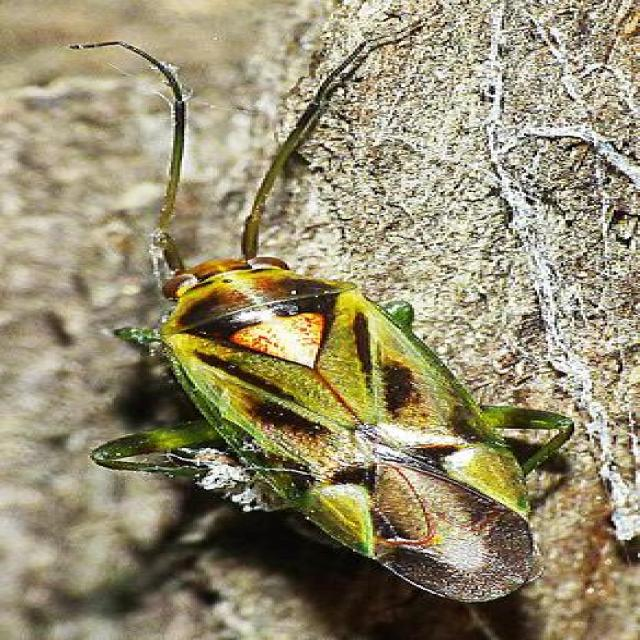Miridae-Adult-: (25, 30, 609, 605)
